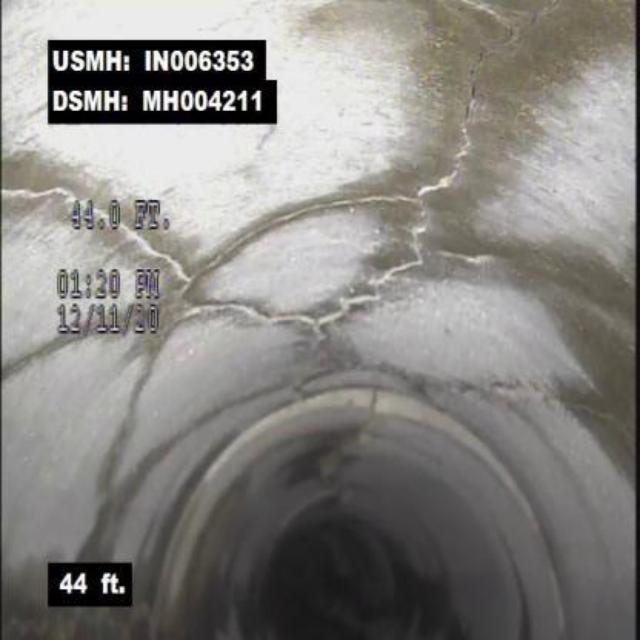Crack: (349, 52, 488, 300), (8, 185, 185, 277), (189, 197, 338, 277), (192, 291, 349, 332), (8, 328, 86, 378), (465, 2, 535, 52)
Joint offset: (228, 374, 485, 449)
